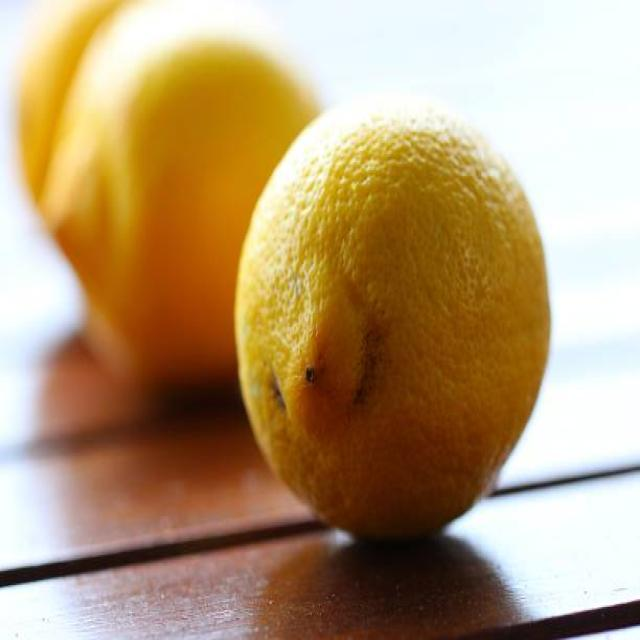Ripe: (231, 99, 551, 554)
